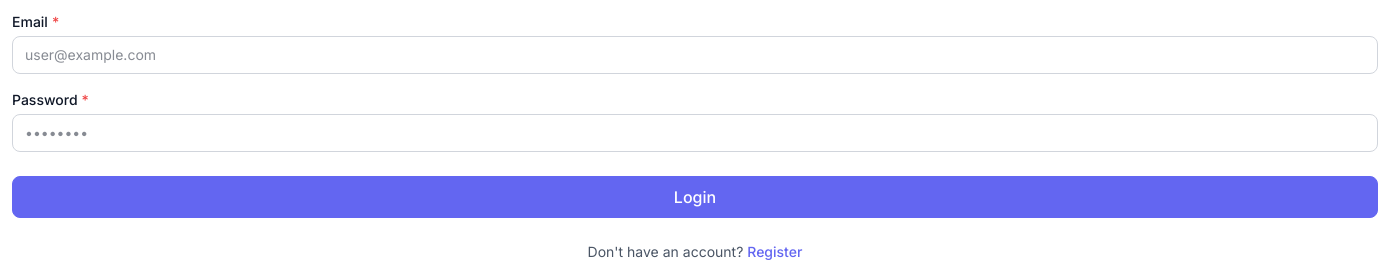
Test: LoginForm › shows loading state during submission
Type "test@example.com" into the field with test id "login-email-input" at (695, 55), box x1=12 y1=36 x2=1378 y2=74
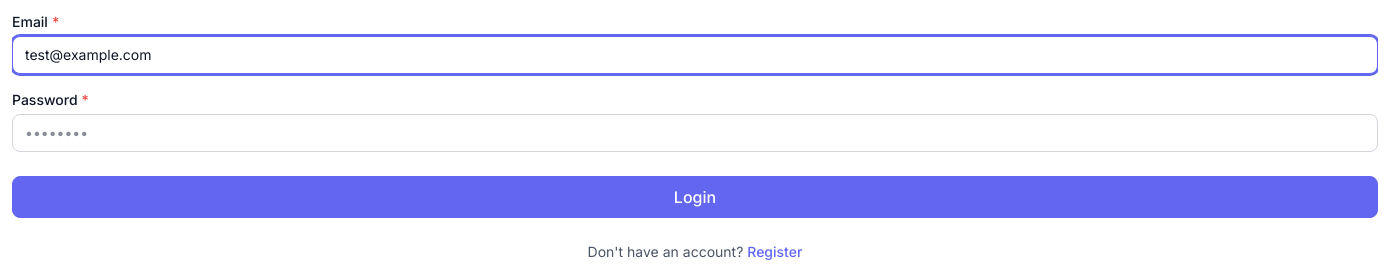
Type "123456" into the password field with test id "login-password-input" at (695, 133), box x1=12 y1=114 x2=1378 y2=152
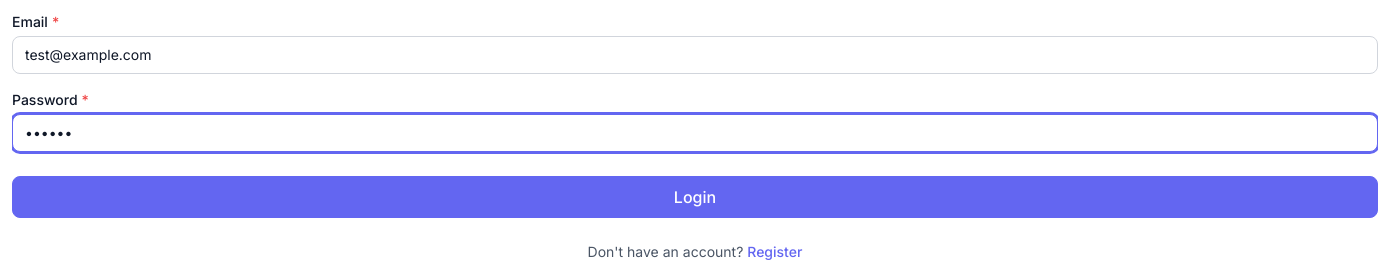
Click the button with test id "login-submit-btn" at (695, 197), box x1=12 y1=176 x2=1378 y2=218
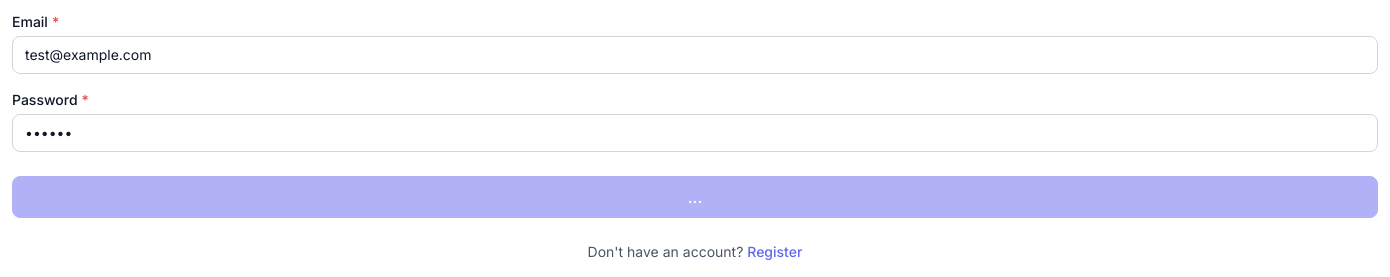
Expected: the button with test id "login-submit-btn" reads "...", x1=12 y1=176 x2=1378 y2=218
